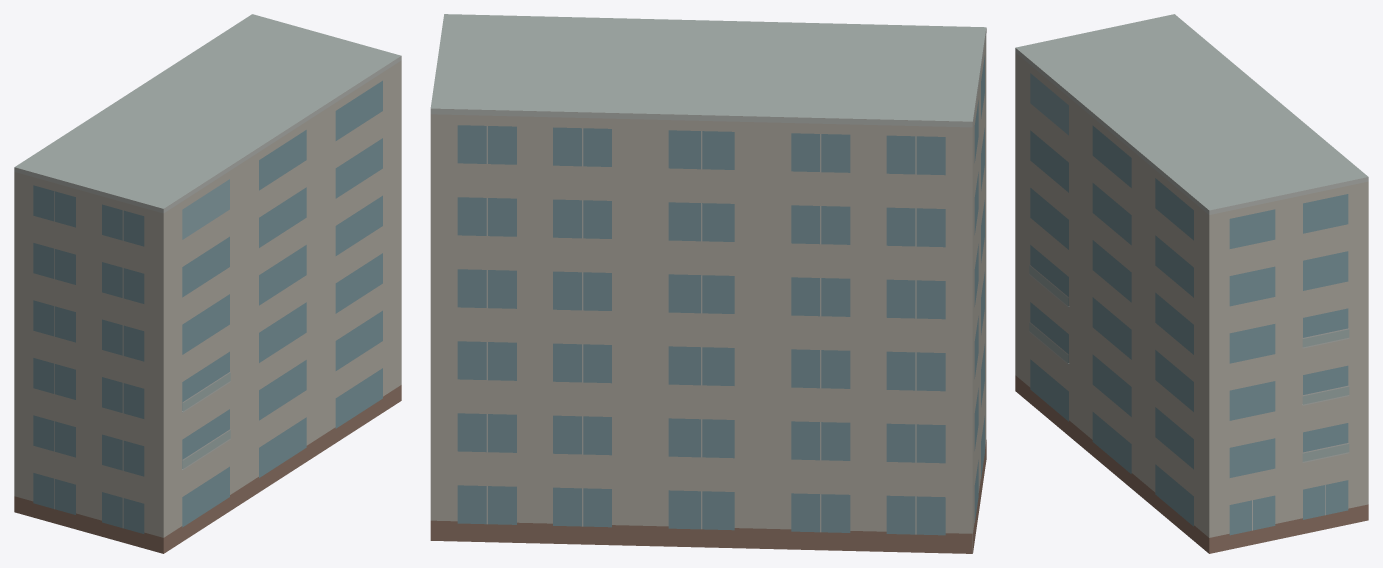
The model's file is survey-upis-32705895.glb.
3 renders of one model, left to right at view 1: azimuth 30°, elevation 25°; view 2: azimuth 150°, elevation 25°; view 3: azimuth 270°, elevation 25°, orthographic. The views are drawn at different scales.
Parts seen in each view (by area): view 1: survey-upis-32705895.tmp; view 2: survey-upis-32705895.tmp; view 3: survey-upis-32705895.tmp.
Part boxes in pixels (x1,y1,x2,y2): survey-upis-32705895.tmp: [14, 14, 401, 553]; survey-upis-32705895.tmp: [430, 14, 986, 553]; survey-upis-32705895.tmp: [1015, 14, 1368, 553].
Size of the model in its own units: 22.47 by 18.3 by 17.07.
